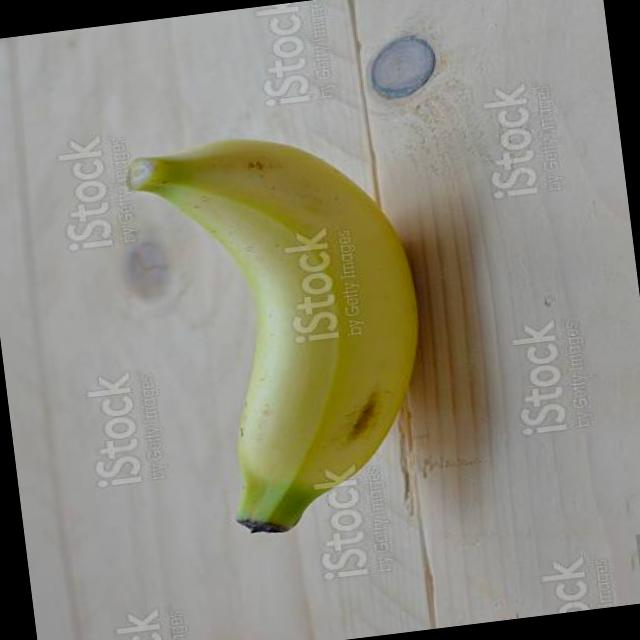Platano: (116, 116, 450, 551)
